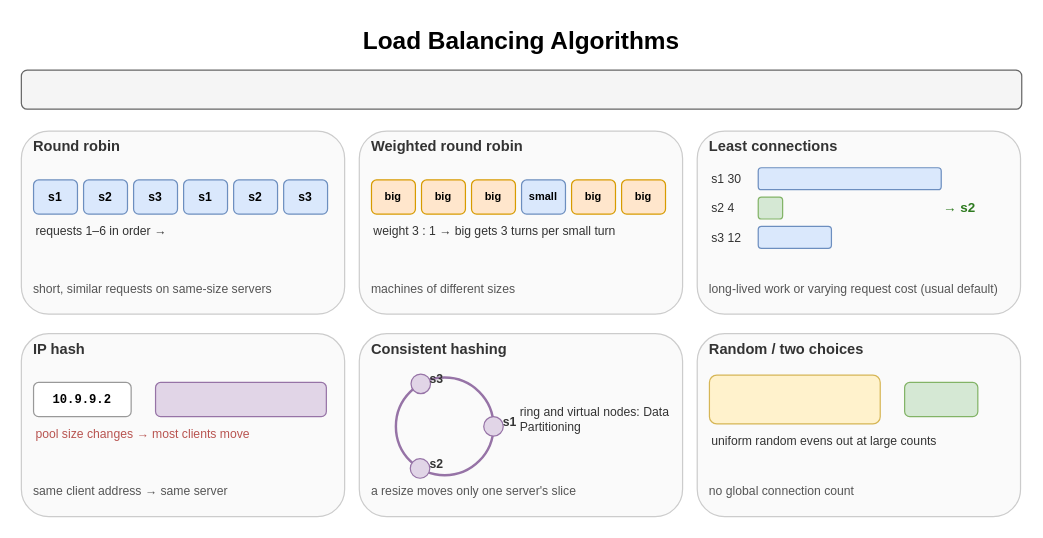
This 1043x538 diagram has some shape labels left out. The shapes that lost their labels are listed below. From the top down, each one's centre as x and y in pixels, then its label:
the point at 521,89: Which healthy server gets the next request
the point at 240,399: hash % 3 = 0 → s1
the point at 794,399: pick 2 at random: s1 (30) vs s3 (12)
the point at 940,399: → s3
